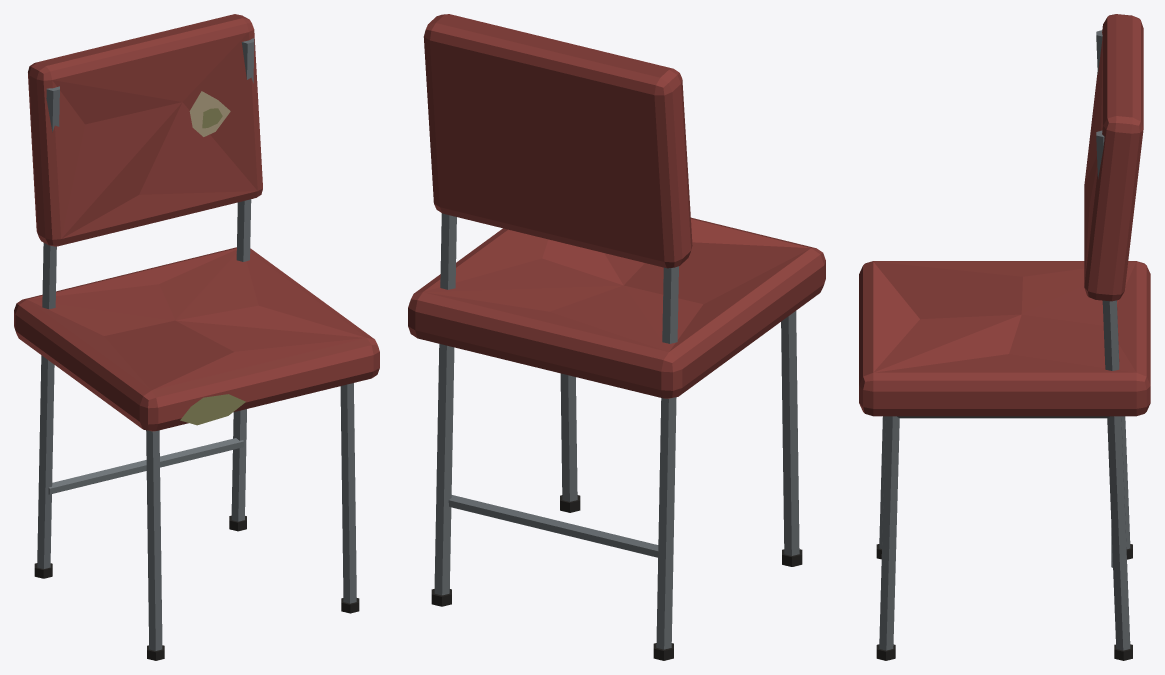
File: chair_wood_myagkiy_stul_idle.glb
3 renders of one model, left to right at view 1: azimuth 30°, elevation 25°; view 2: azimuth 150°, elevation 25°; view 3: azimuth 270°, elevation 25°, orthographic. The views are drawn at different scales.
Parts seen in each view (by area): view 1: chair_wood_myagkiy_stul_idle; view 2: chair_wood_myagkiy_stul_idle; view 3: chair_wood_myagkiy_stul_idle.
Boxes of the visible parts, x1,y1,x2,y2 form: chair_wood_myagkiy_stul_idle: (14,14,379,660); chair_wood_myagkiy_stul_idle: (408,14,825,660); chair_wood_myagkiy_stul_idle: (859,14,1150,660).
Size of the model in its own units: 0.43 by 0.88 by 0.437.
1 material, 1 textured.
